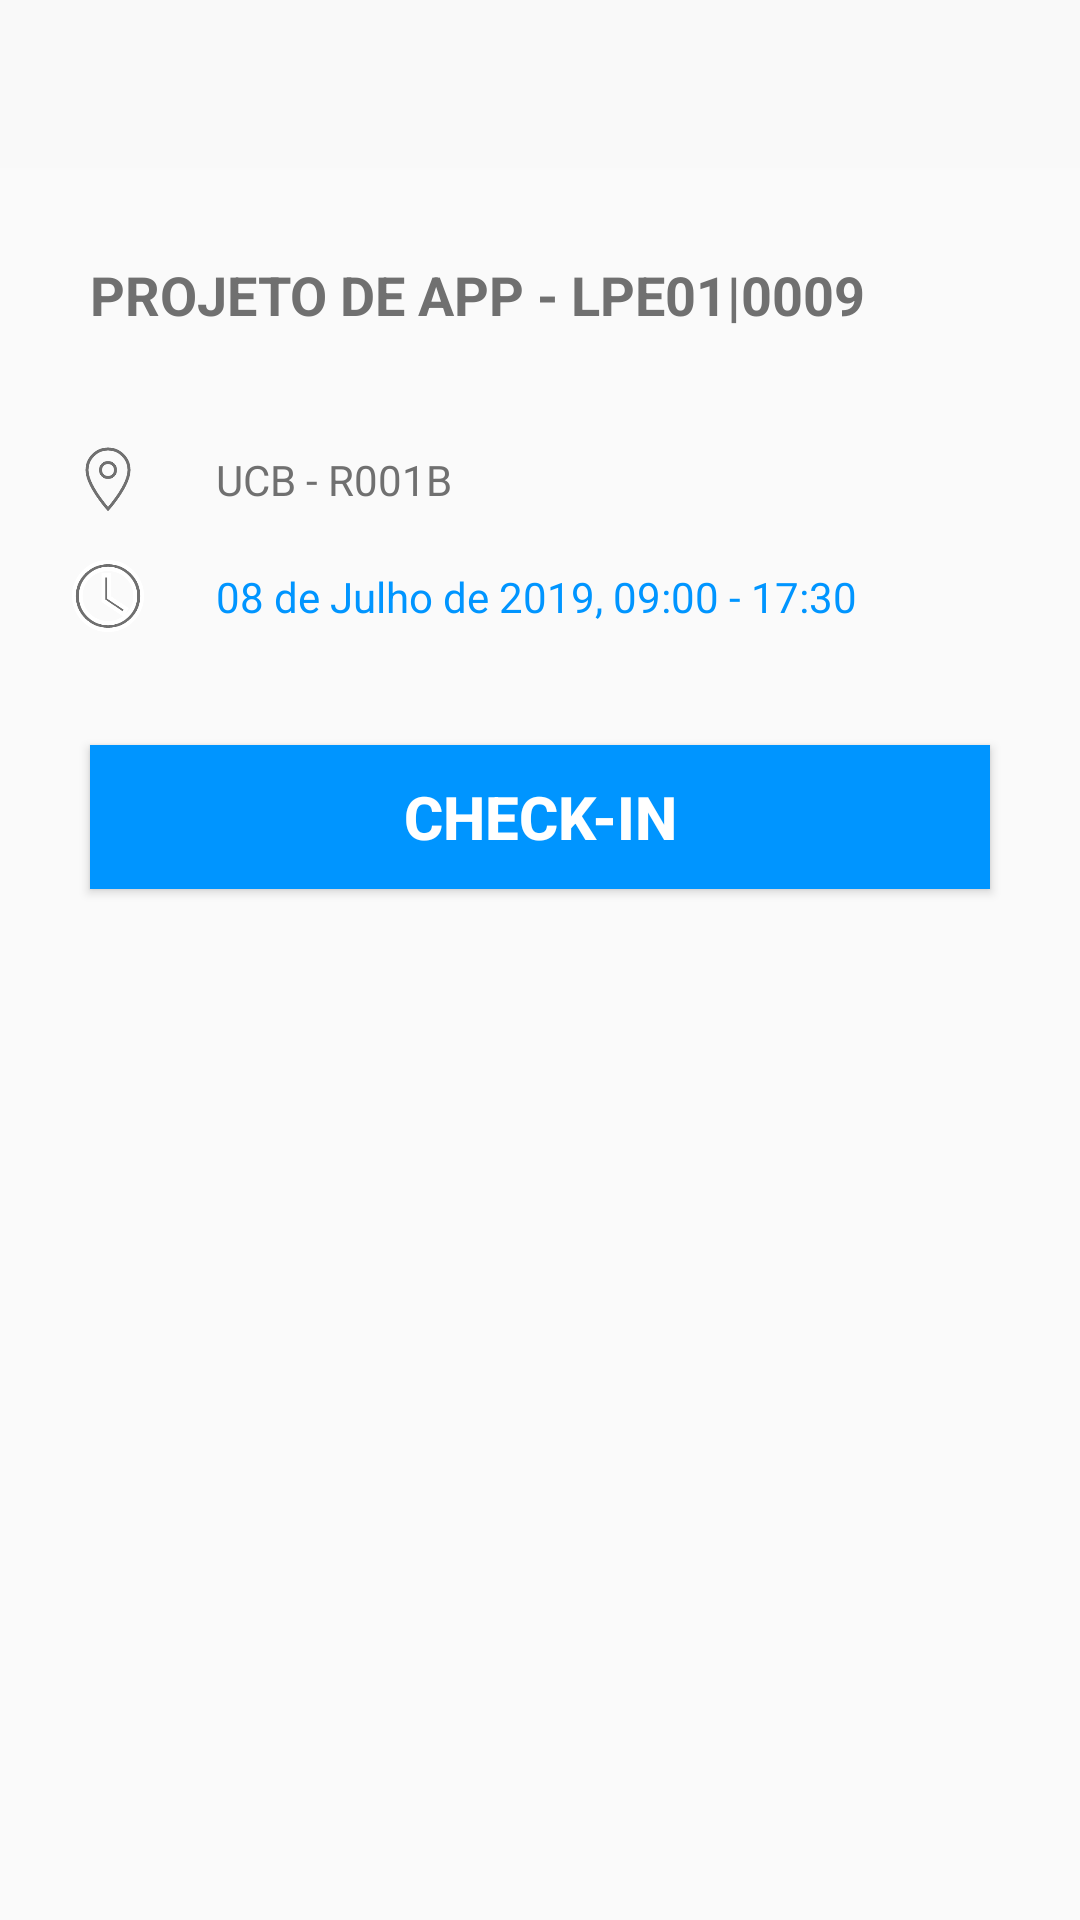

Icons on this 1080px×1920px Android screen, each with the point to tap as point (x, y):
hora: point (108, 596)
local: point (108, 479)
